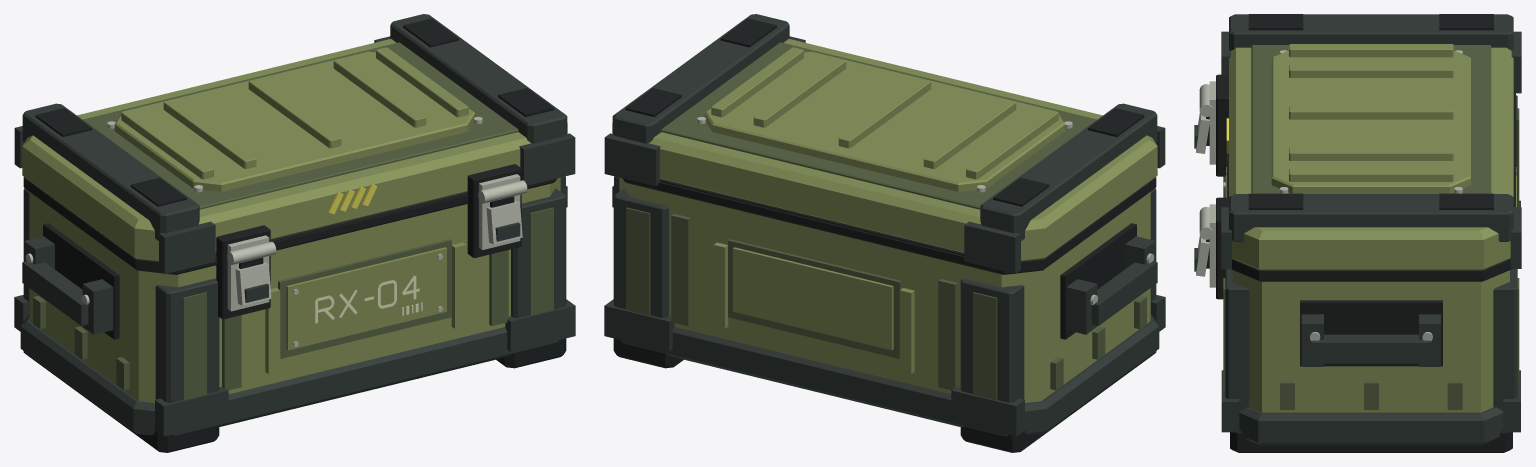
Rendered from caixa.glb.
3 views of the same model, side by side, from view 1: azimuth 30°, elevation 25°; view 2: azimuth 150°, elevation 25°; view 3: azimuth 270°, elevation 25° (orthographic).
Parts seen in each view (by area): view 1: Carcaça principal, Painel central, Tampa superior, Base reforçada, Proteção longitudinal (×2), Face central, Nervura superior (×5), Protetor de canto (×2), Reforço da tampa, Aresta protetora (×2), Sapata externa (×2), Canto da tampa (×2) (+16 smaller); view 2: Carcaça principal, Tampa superior, Painel central, Base reforçada, Proteção longitudinal (×2), Face central, Protetor de canto (×2), Nervura superior (×5), Reforço da tampa, Aresta protetora (×2), Sapata externa (×2), Canto da tampa (×2) (+10 smaller); view 3: Carcaça principal, Painel central, Tampa superior, Proteção longitudinal (×2), Nervura superior (×5), Base reforçada, Reforço da tampa, Protetor de canto (×2), Rebaixo da alça, Inserto antiderrapante (×4), Pegador lateral, Vedação contínua (+12 smaller).
Part boxes in pixels (x1,y1,x2,y2): Carcaça principal: [29, 177, 560, 402]; Painel central: [114, 51, 475, 191]; Tampa superior: [22, 39, 567, 261]; Base reforçada: [20, 314, 558, 436]; Proteção longitudinal (×2): [22, 14, 567, 240]; Face central: [286, 247, 446, 350]; Nervura superior (×5): [121, 47, 468, 179]; Protetor de canto (×2): [155, 188, 566, 402]; Reforço da tampa: [83, 42, 518, 209]; Aresta protetora (×2): [182, 207, 553, 400]; Sapata externa (×2): [155, 299, 575, 436]; Canto da tampa (×2): [159, 133, 575, 273]; Carcaça principal: [619, 177, 1150, 402]; Tampa superior: [612, 39, 1157, 261]; Painel central: [704, 51, 1065, 191]; Base reforçada: [621, 314, 1159, 436]; Proteção longitudinal (×2): [612, 14, 1157, 240]; Face central: [733, 247, 893, 350]; Protetor de canto (×2): [613, 188, 1024, 402]; Nervura superior (×5): [711, 47, 1058, 179]; Reforço da tampa: [661, 42, 1096, 209]; Aresta protetora (×2): [626, 207, 997, 400]; Sapata externa (×2): [604, 299, 1024, 436]; Canto da tampa (×2): [604, 133, 1020, 273]; Carcaça principal: [1232, 270, 1509, 412]; Painel central: [1271, 50, 1470, 193]; Tampa superior: [1229, 47, 1513, 270]; Proteção longitudinal (×2): [1229, 14, 1513, 241]; Nervura superior (×5): [1289, 44, 1453, 181]; Base reforçada: [1239, 407, 1503, 445]; Reforço da tampa: [1251, 45, 1491, 193]; Protetor de canto (×2): [1225, 269, 1517, 410]; Rebaixo da alça: [1300, 300, 1442, 366]; Inserto antiderrapante (×4): [1248, 14, 1493, 209]; Pegador lateral: [1312, 334, 1430, 363]; Vedação contínua: [1231, 258, 1511, 281].
Bounding box in the file's own units: 1.95 × 0.938 × 1.13.
